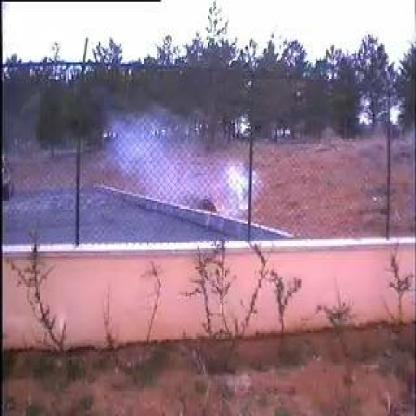-: (67, 107, 251, 238)
